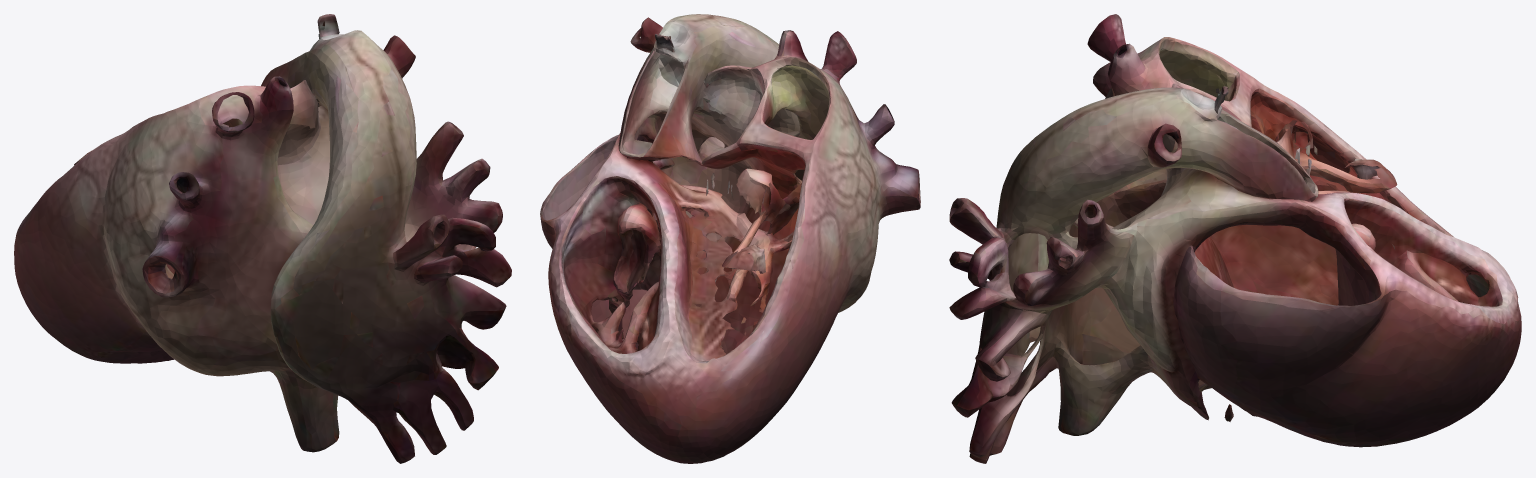
File: Heart.glb
3 views of the same model, side by side, from view 1: azimuth 30°, elevation 25°; view 2: azimuth 150°, elevation 25°; view 3: azimuth 270°, elevation 25° (orthographic). The views are drawn at different scales.
Parts seen in each view (by area): view 1: Heart.001; view 2: Heart.001; view 3: Heart.001.
Boxes of the visible parts, <box> form: Heart.001: <box>14,14,511,463</box>; Heart.001: <box>540,14,920,463</box>; Heart.001: <box>949,14,1521,463</box>.
Bounding box in the file's own units: 0.6927 × 0.7589 × 0.9998.
Materials: 1 (1 with a texture image).
